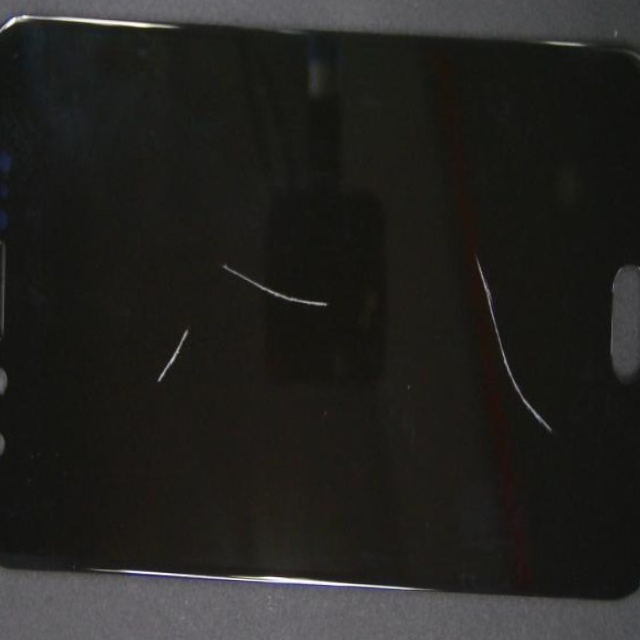scratch: (312, 306, 640, 582), (90, 77, 283, 496), (207, 156, 470, 423)
